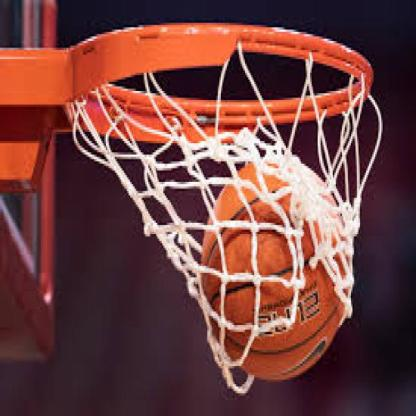basketball: (198, 161, 354, 380)
rim: (29, 22, 375, 146)
